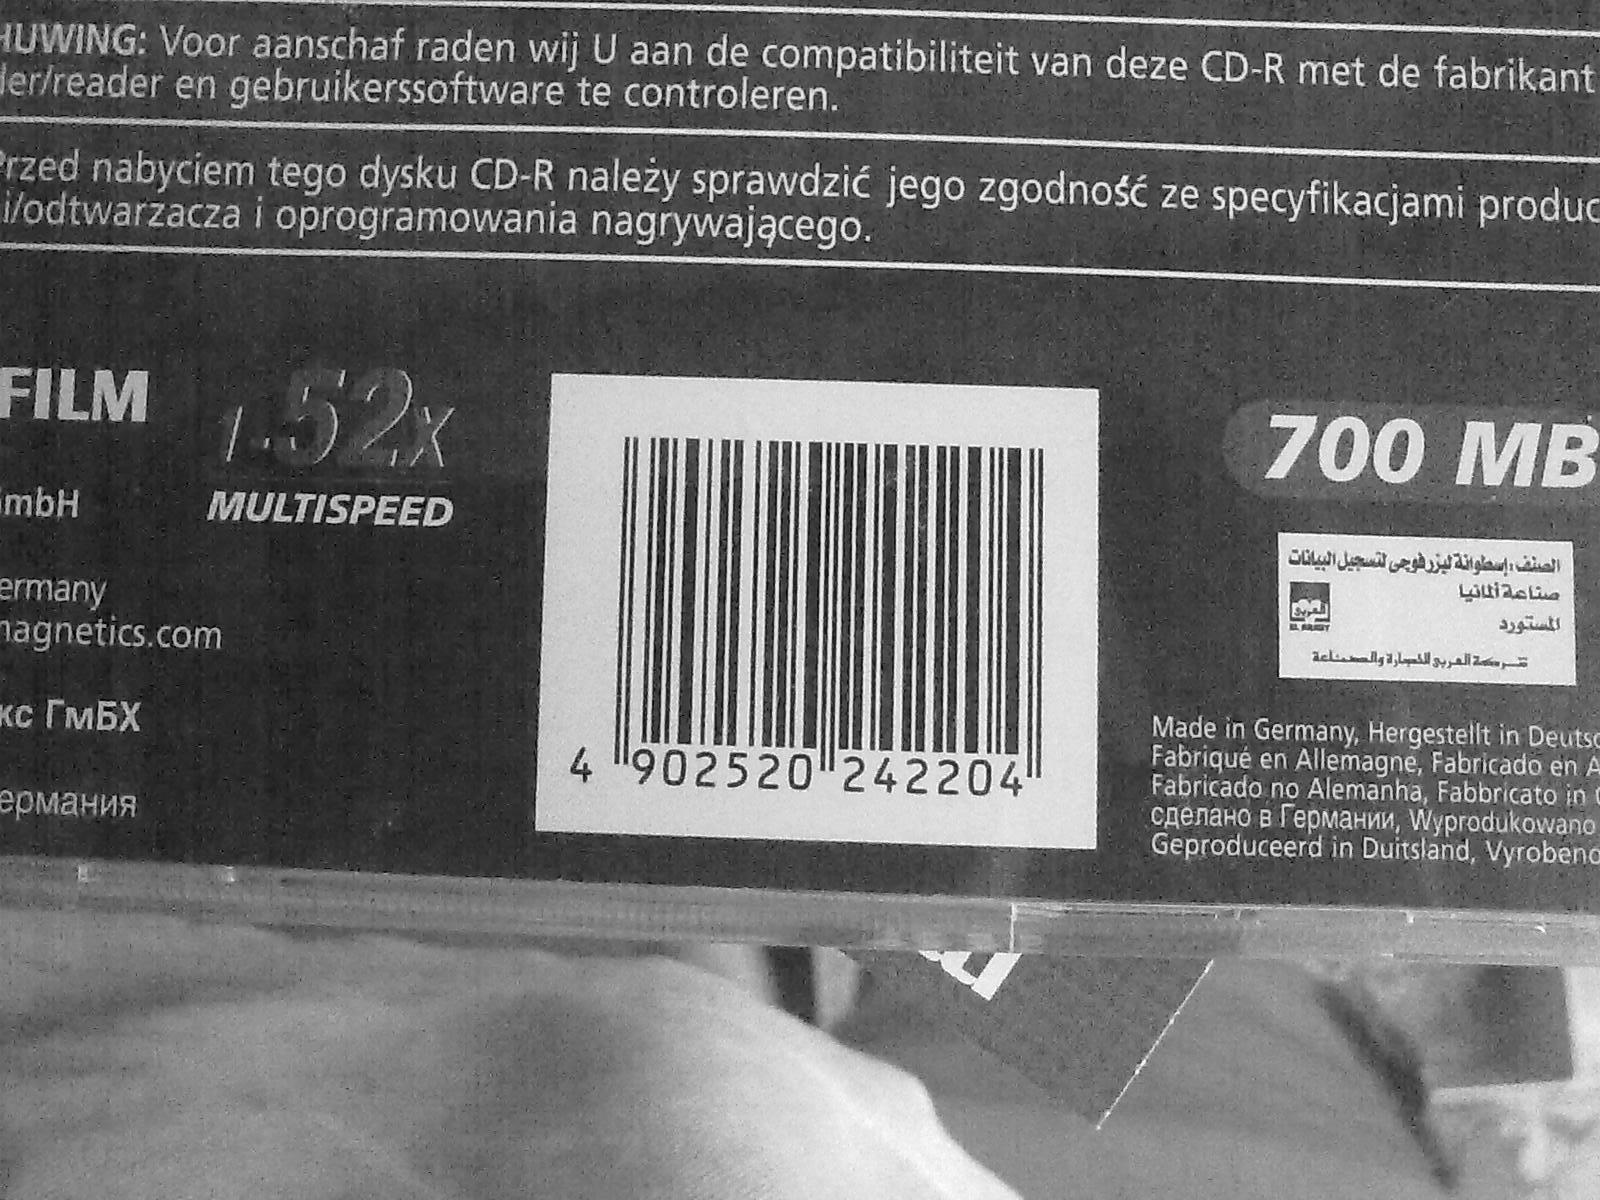Barcode: (574, 388, 1077, 836)
